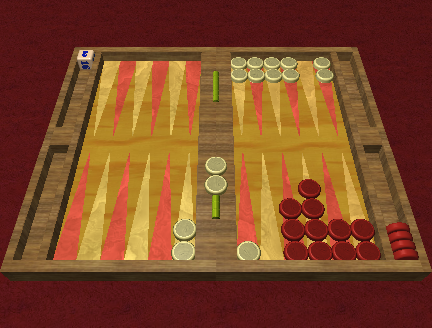checker: (303, 217, 328, 240), (306, 240, 333, 261), (349, 218, 375, 239), (173, 219, 197, 241), (327, 218, 352, 239), (301, 197, 325, 218), (281, 219, 305, 240), (332, 240, 356, 261), (296, 178, 321, 198), (355, 240, 380, 260), (236, 240, 260, 260), (279, 198, 302, 218), (172, 240, 195, 260), (284, 241, 308, 259), (204, 175, 228, 193), (205, 155, 227, 174), (387, 229, 413, 241), (281, 67, 300, 83), (391, 239, 416, 251), (392, 248, 419, 259), (315, 68, 334, 82), (247, 56, 264, 71), (230, 67, 249, 80), (386, 221, 410, 231), (281, 56, 297, 71), (265, 67, 281, 82), (248, 68, 265, 82), (264, 56, 279, 71), (313, 56, 331, 67), (229, 56, 247, 67)
